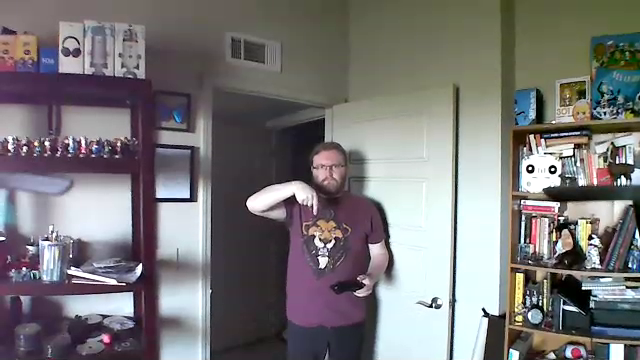down: (291, 175, 324, 216)
